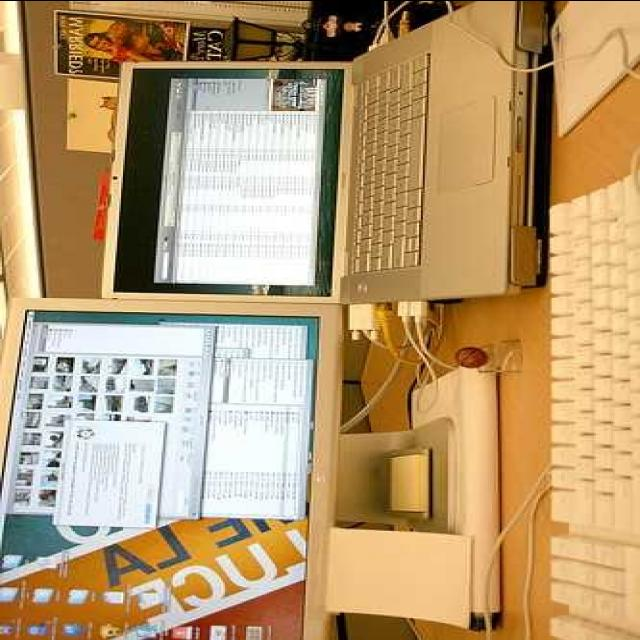laptop: (135, 8, 548, 314)
